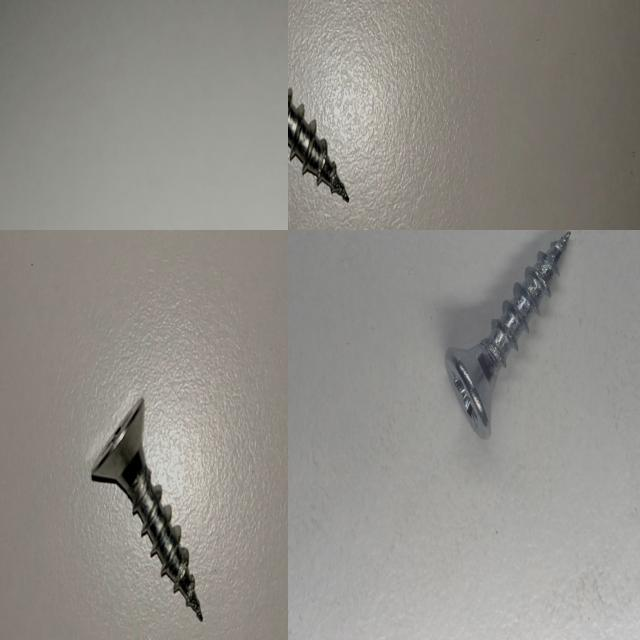Screw: (440, 230, 573, 444), (92, 397, 203, 621), (288, 88, 349, 201)
